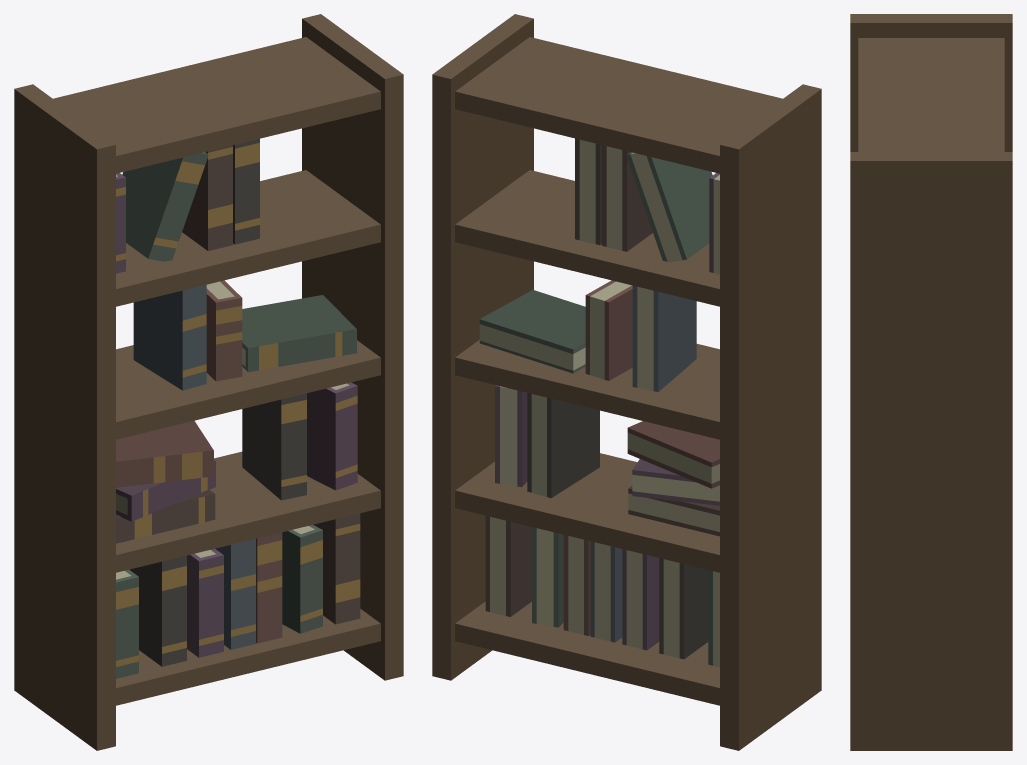
File: SD_Prop_Bookshelf_01.fbx
The picture shows the model from 3 angles, left to right: view 1: azimuth 30°, elevation 25°; view 2: azimuth 150°, elevation 25°; view 3: azimuth 270°, elevation 25°; orthographic projection.
Parts seen in each view (by area): view 1: SD_Prop_Bookshelf_01; view 2: SD_Prop_Bookshelf_01; view 3: SD_Prop_Bookshelf_01.
Boxes of the visible parts, left/top/right/bottom form: SD_Prop_Bookshelf_01: left=14, top=14, right=403, bottom=750; SD_Prop_Bookshelf_01: left=432, top=14, right=821, bottom=750; SD_Prop_Bookshelf_01: left=850, top=14, right=1012, bottom=750.
Size of the model in its own units: 1.65 by 3.1 by 0.7728.
